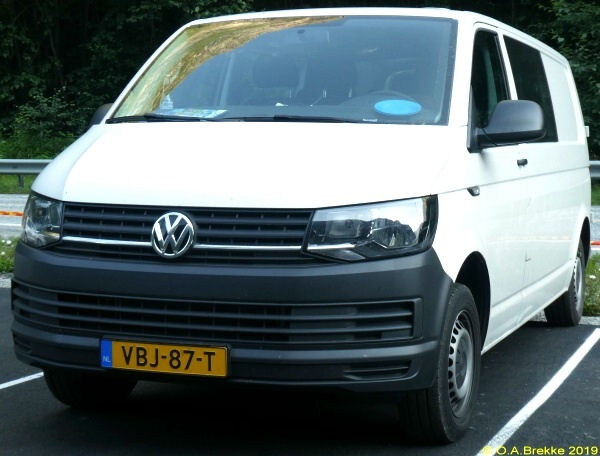number_plate: (97, 338, 229, 378)
